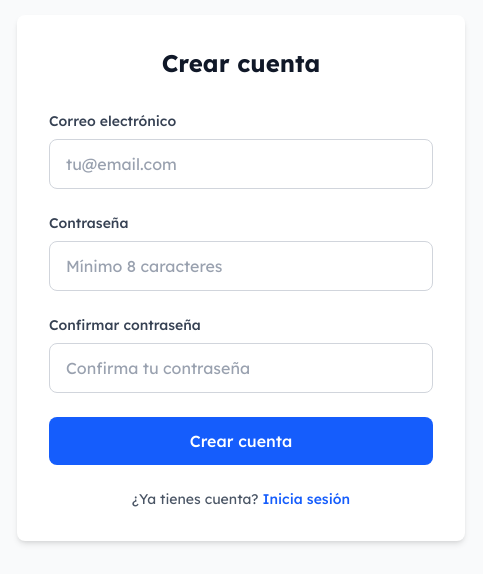
Scenario: RegisterPage › displays validation error when passwords do not match
In the field labelled "Correo electrónico": (241, 164) [49,139,433,189], type "test@example.com"
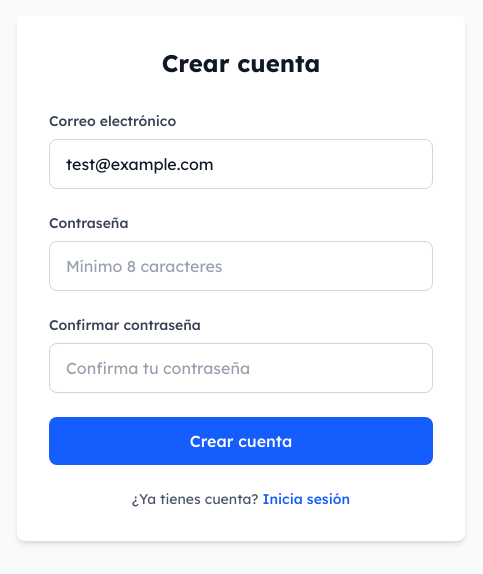
In the password field labelled "Contraseña": (241, 266) [49,241,433,291], type "password123"
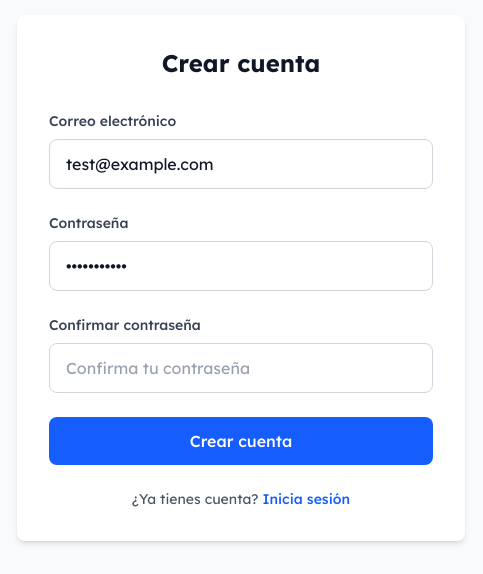
In the password field labelled "Confirmar contraseña": (241, 368) [49,343,433,393], type "password456"
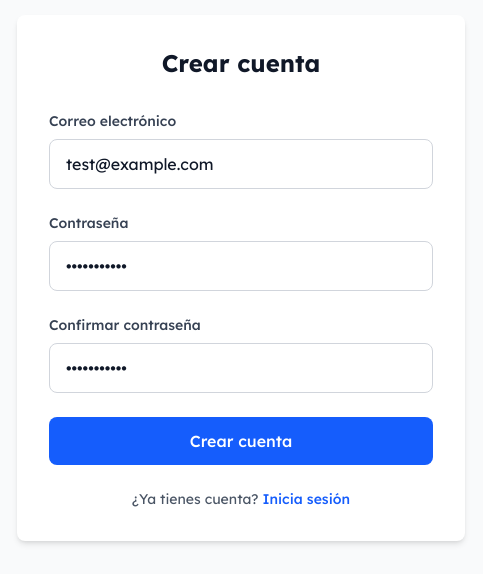
Click the button "Crear cuenta": (241, 441) [49,417,433,465]
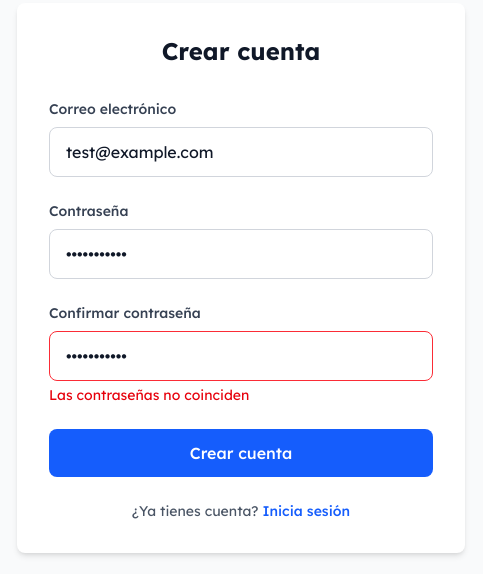
Now the text "Las contraseñas no coinciden" is shown, box [49,386,249,404]
